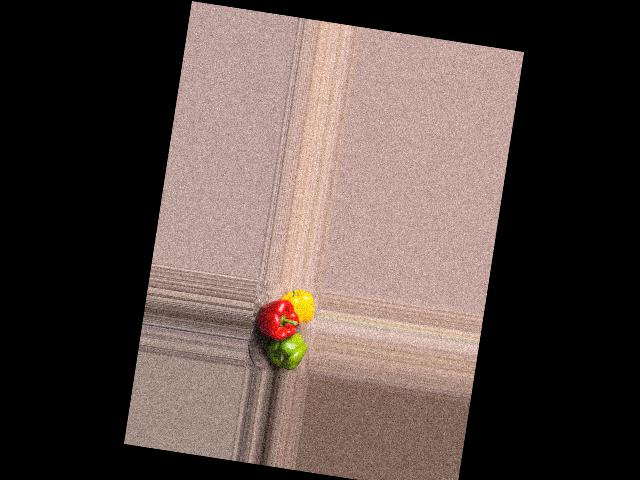bell_pepper: (277, 287, 318, 324)
